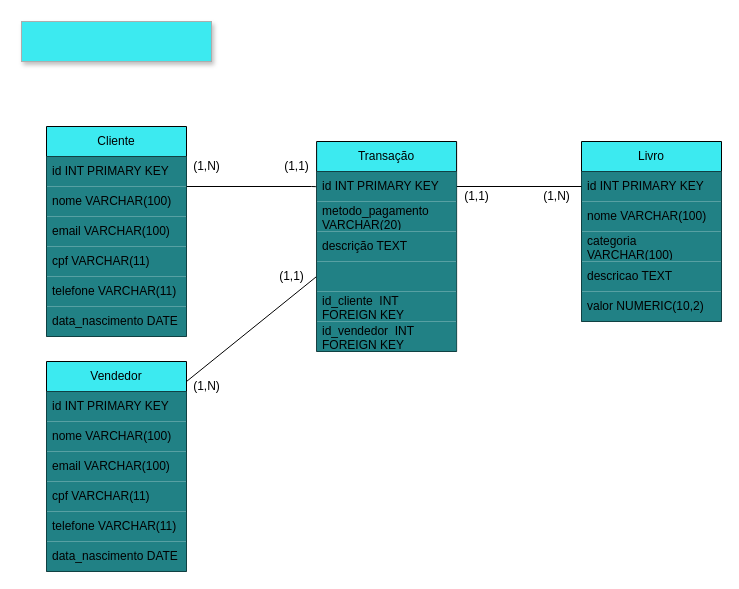
Some shapes in this 739 by 589 pixel diagram are drawn without their labels. Each missing label, with the centre of its shape:
"id_livro INT FOREIGN KEY" goes at (386,276).
"Livraria" goes at (117,42).
